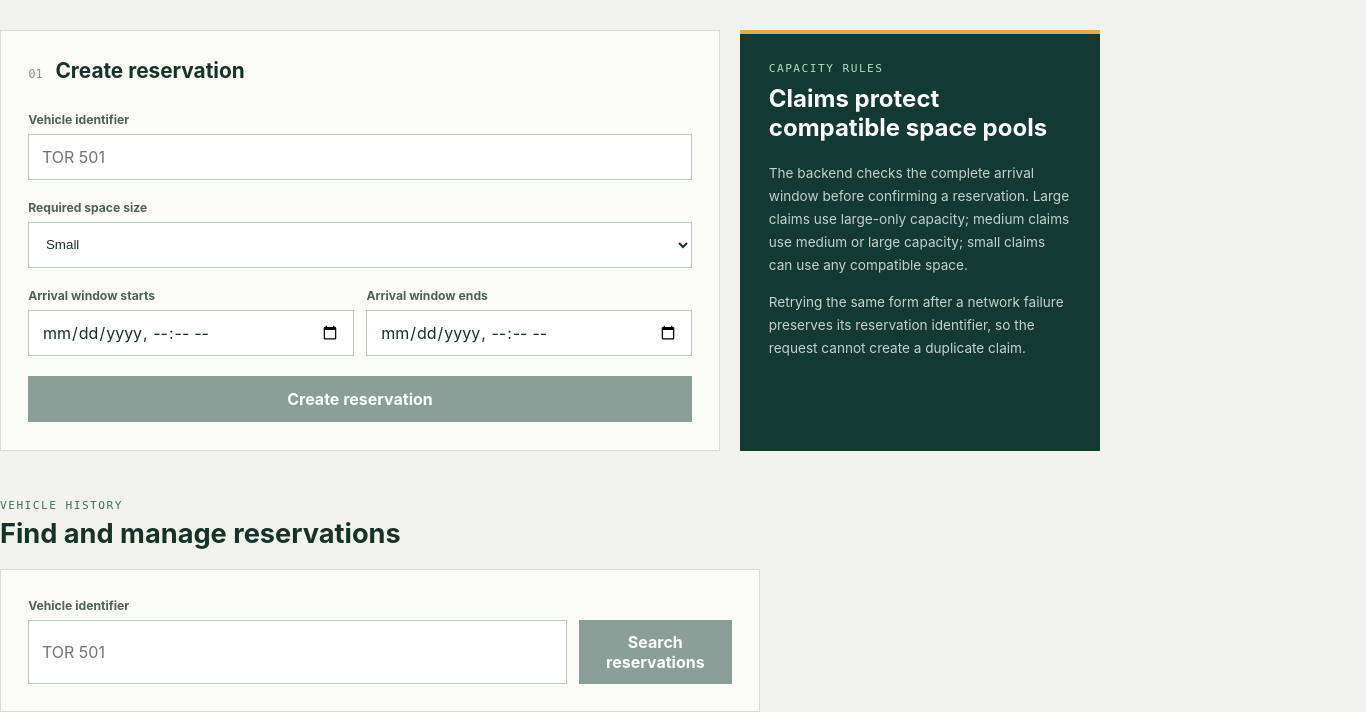
Test: reservation operations › searches reservation history and cancels a confirmed reservation
(page scrolled)
In the field labelled "Vehicle identifier" below "Find and manage reservations": (298, 652) left=28, top=620, right=567, bottom=684, type "TOR 901"
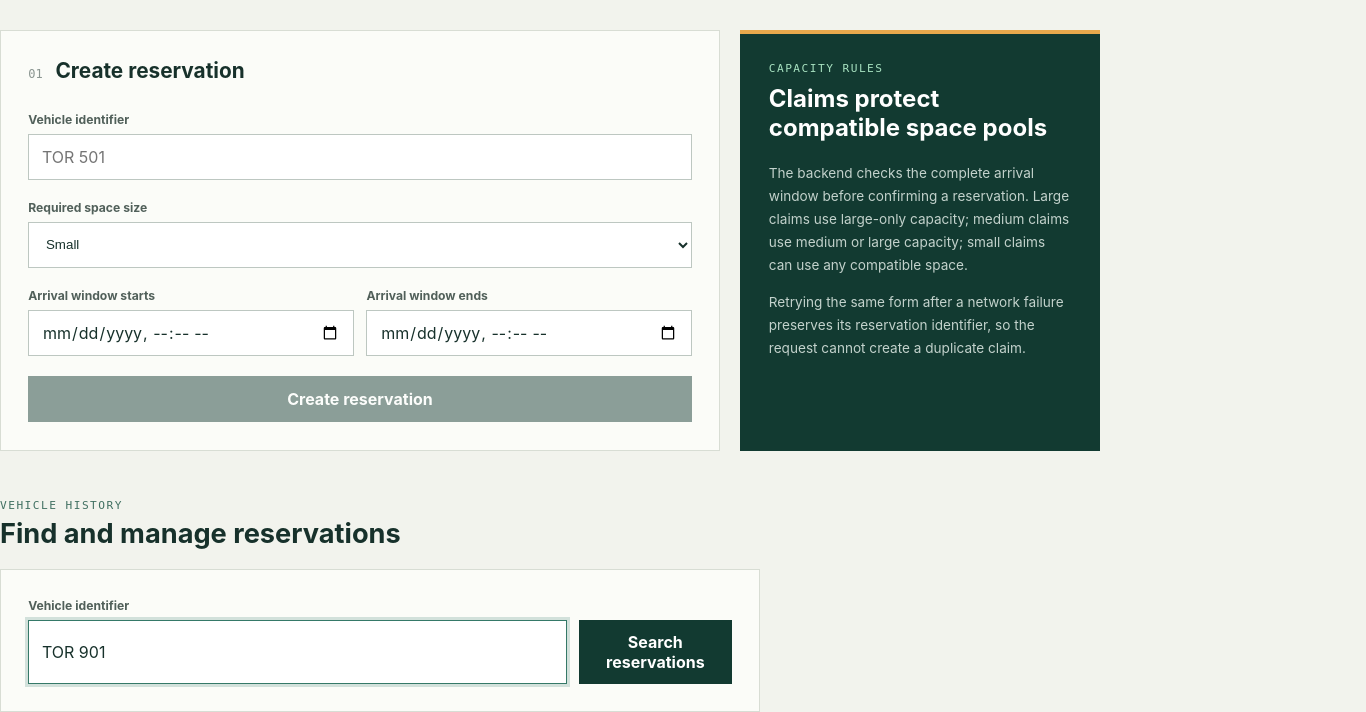
Click the button "Search reservations": click(655, 652) left=579, top=620, right=732, bottom=684
(page scrolled)
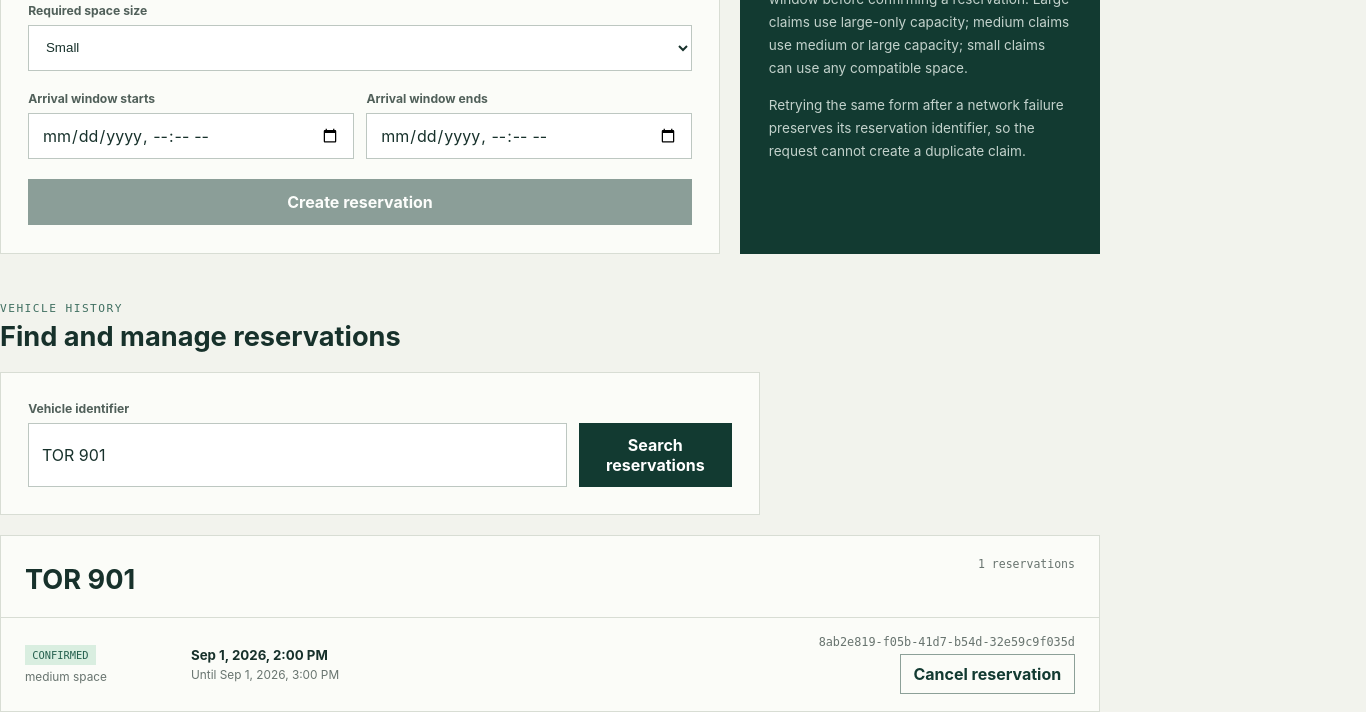
Expected: the text "CONFIRMED" is shown, left=25, top=644, right=96, bottom=665
Click the button "Cancel reservation": click(987, 674) left=900, top=654, right=1075, bottom=694
(page scrolled)
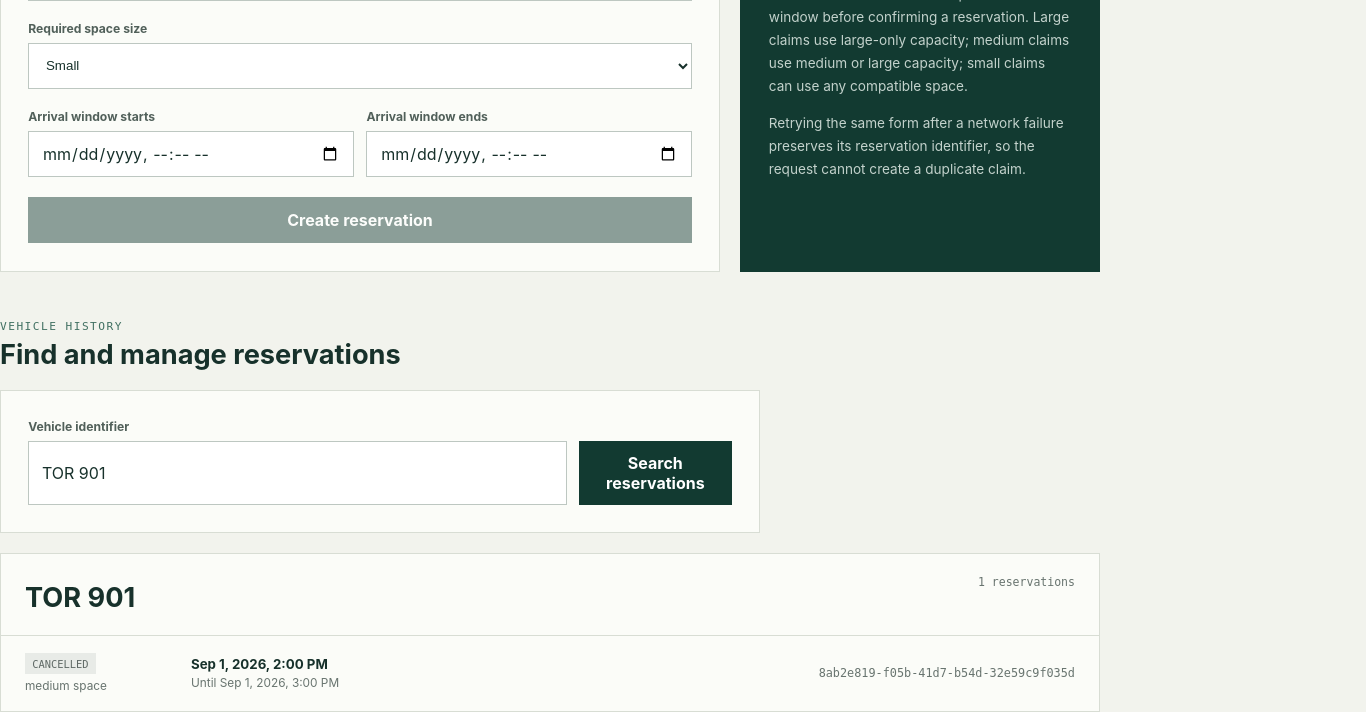
Expected: the text "CANCELLED" is shown, left=25, top=653, right=96, bottom=674
